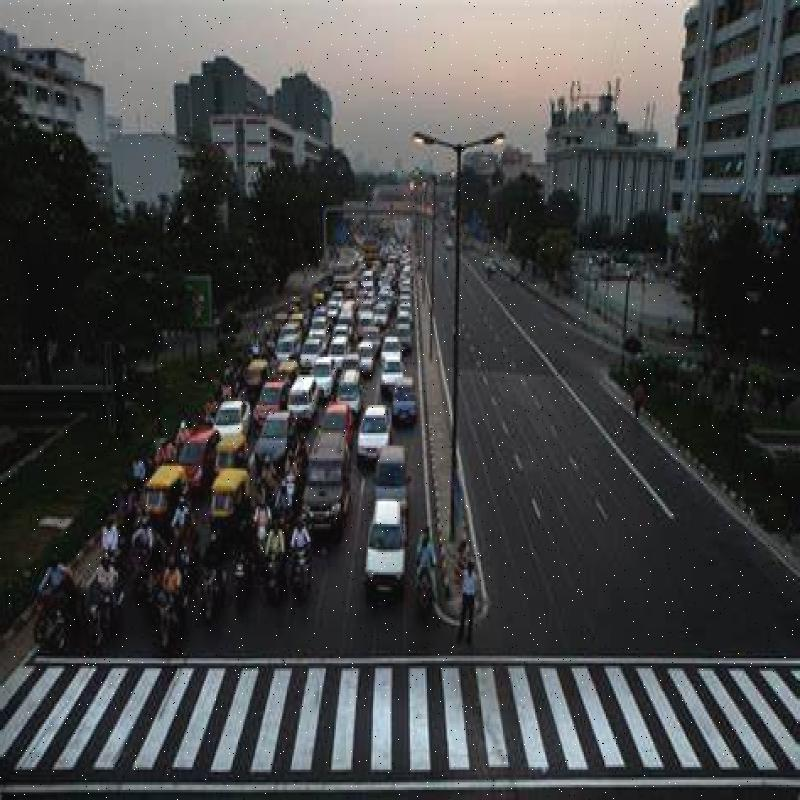auto: (205, 467, 256, 549), (138, 456, 188, 530)
car: (355, 487, 406, 611), (302, 428, 357, 540), (252, 400, 295, 472), (354, 398, 400, 463), (282, 378, 326, 424), (368, 343, 405, 397), (214, 393, 248, 438)
